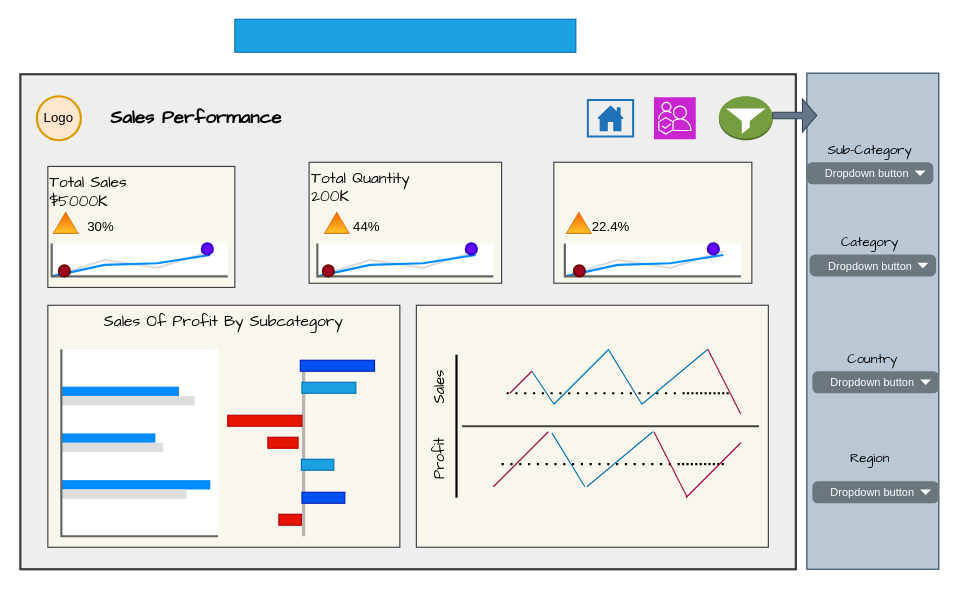
Image size: 958x590. Some labels were removed from this diagram. The box of each missing label's shape, as (x1, y1, x2, y2) in pixels:
Dashboard Mockup: (234, 18, 576, 52)
Filters: (806, 72, 939, 569)
Total Profit $300K: (553, 161, 752, 283)
Trend Over Time: (415, 304, 768, 547)
